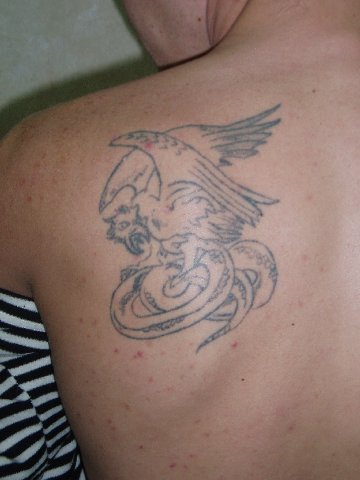tatu6_drakon: (80, 112, 309, 355)
